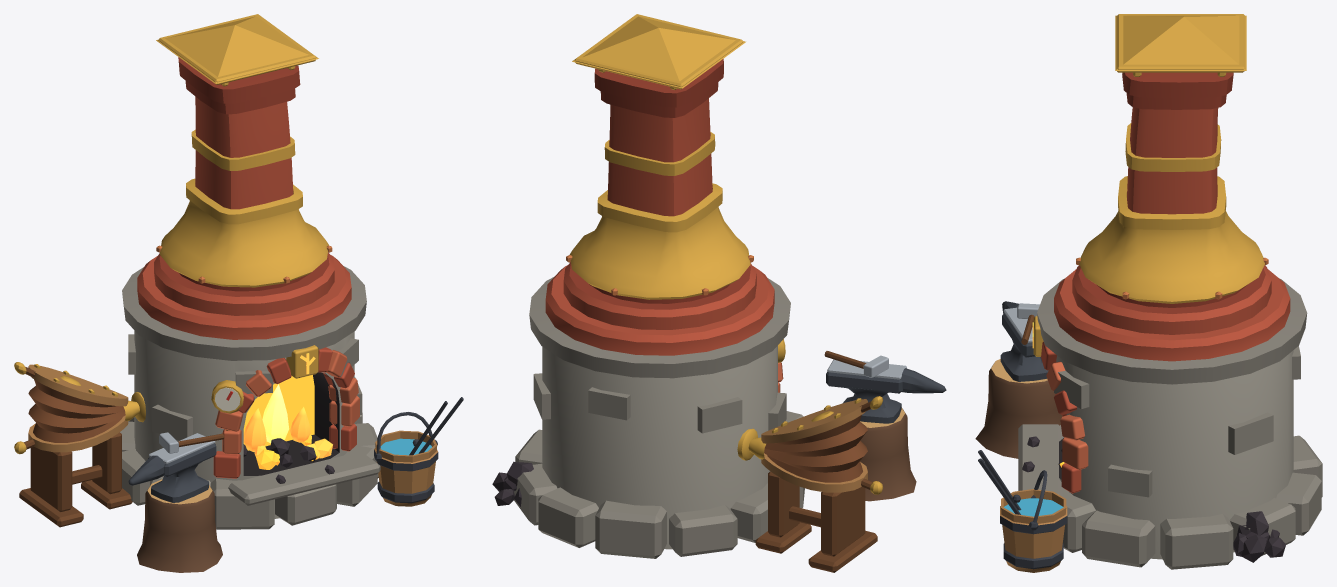
Rendered from prop_forge.glb.
3 renders of one model, left to right at view 1: azimuth 30°, elevation 25°; view 2: azimuth 150°, elevation 25°; view 3: azimuth 270°, elevation 25°, orthographic. The views are drawn at different scales.
Parts seen in each view (by area): view 1: Forge; view 2: Forge; view 3: Forge.
Part boxes in pixels (x1,y1,x2,y2): Forge: [14, 14, 463, 572]; Forge: [492, 14, 946, 572]; Forge: [975, 14, 1322, 572].
Size of what is drawn, in the model's own units: 2.63 by 3.2 by 2.06.
